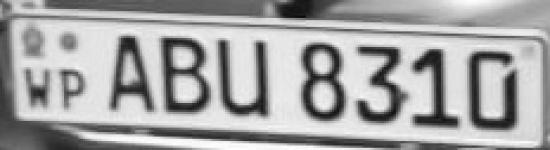0: (465, 44, 526, 135)
1: (409, 44, 464, 133)
3: (354, 41, 410, 129)
8: (292, 36, 352, 125)
A: (102, 31, 158, 119)
B: (156, 31, 216, 119)
P: (56, 63, 88, 115)
U: (214, 32, 281, 128)
W: (20, 63, 54, 114)
